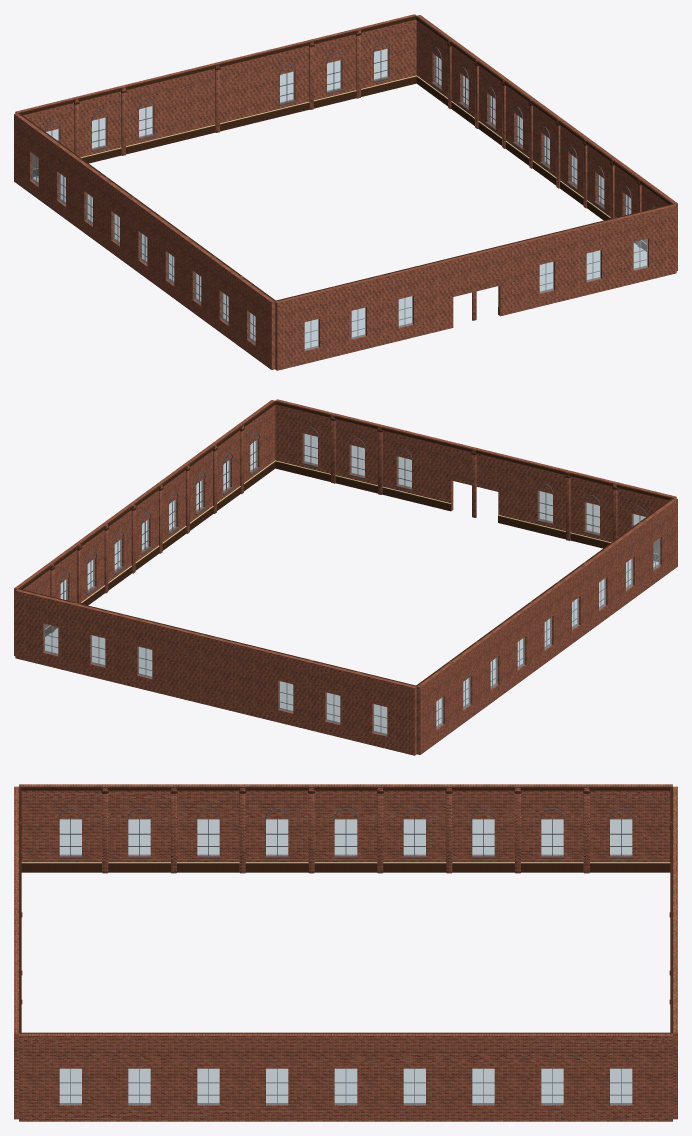
File: kr_hall_walls.glb
3 views of the same model, one above another, from view 1: azimuth 30°, elevation 25°; view 2: azimuth 150°, elevation 25°; view 3: azimuth 270°, elevation 25° (orthographic). The views are drawn at different scales.
Visible parts, largest first — view 1: kr_hall_walls_brick, kr_hall_walls_glass, kr_hall_walls_darkwood, vc_m8_r4, vc_m8_r2; view 2: kr_hall_walls_brick, kr_hall_walls_glass, kr_hall_walls_darkwood, vc_m8_r4, vc_m8_r2; view 3: kr_hall_walls_brick, kr_hall_walls_glass, kr_hall_walls_darkwood, vc_m8_r4, vc_m8_r2.
Boxes of the visible parts, x1,y1,x2,y2 form: kr_hall_walls_brick: (14,14,677,370); kr_hall_walls_glass: (31,48,647,350); kr_hall_walls_darkwood: (18,15,673,314); vc_m8_r4: (32,41,654,349); vc_m8_r2: (33,75,646,244); kr_hall_walls_brick: (14,399,677,755); kr_hall_walls_glass: (44,433,660,735); kr_hall_walls_darkwood: (18,400,673,686); vc_m8_r4: (37,426,659,734); vc_m8_r2: (45,460,658,629); kr_hall_walls_brick: (14,784,677,1121); kr_hall_walls_glass: (59,819,632,1104); kr_hall_walls_darkwood: (19,786,672,1033); vc_m8_r4: (58,808,633,1104); vc_m8_r2: (21,862,670,863).
Size of the model in its own units: 69.2 by 11 by 77.2.
Materials: 5 (2 with a texture image).
